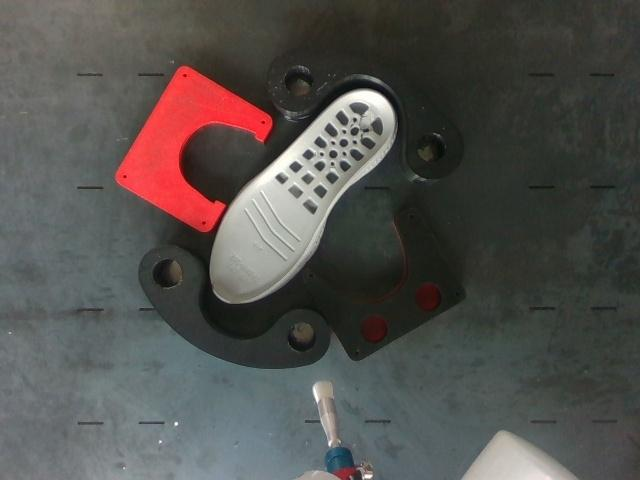shoes: (210, 91, 394, 303)
